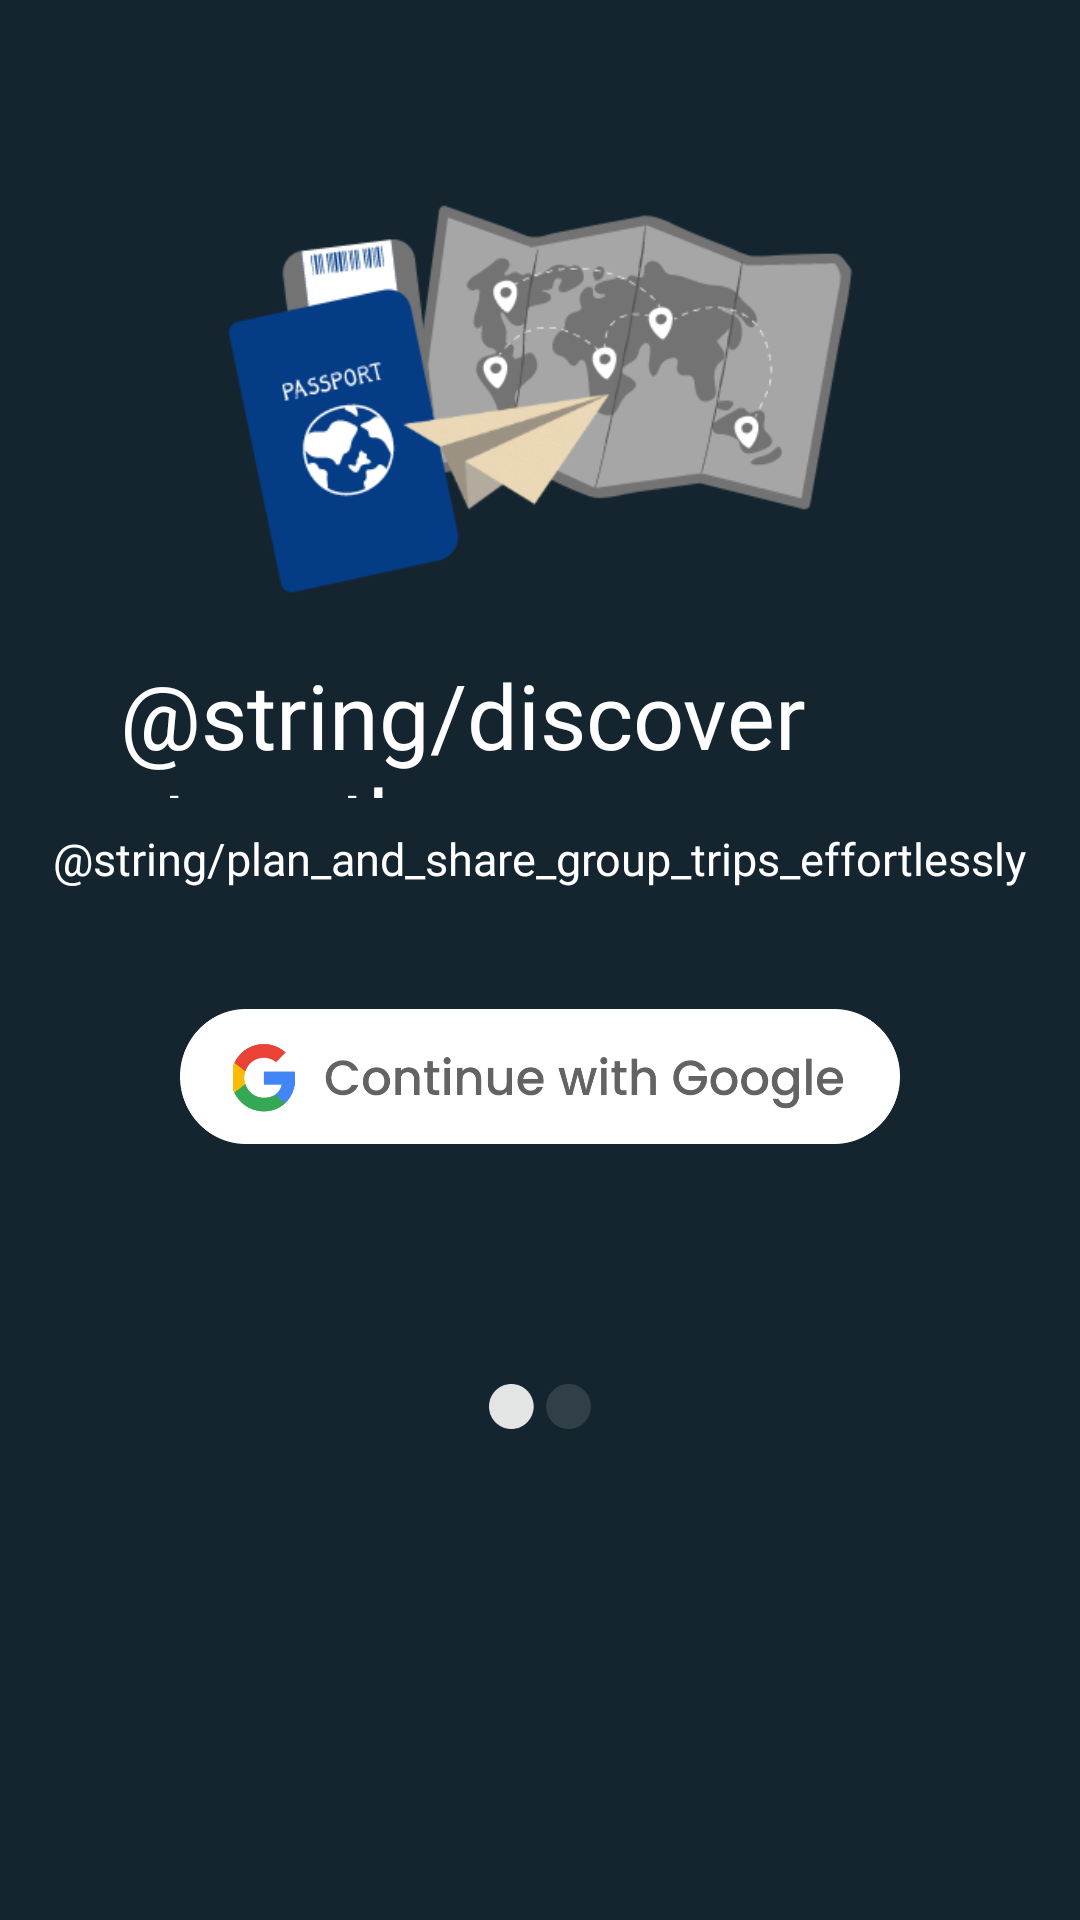

Screen size 1080px×1920px. Icon name, then its box in pixels as (x1, y1, x2, y2):
page: (489, 1384, 591, 1429)
